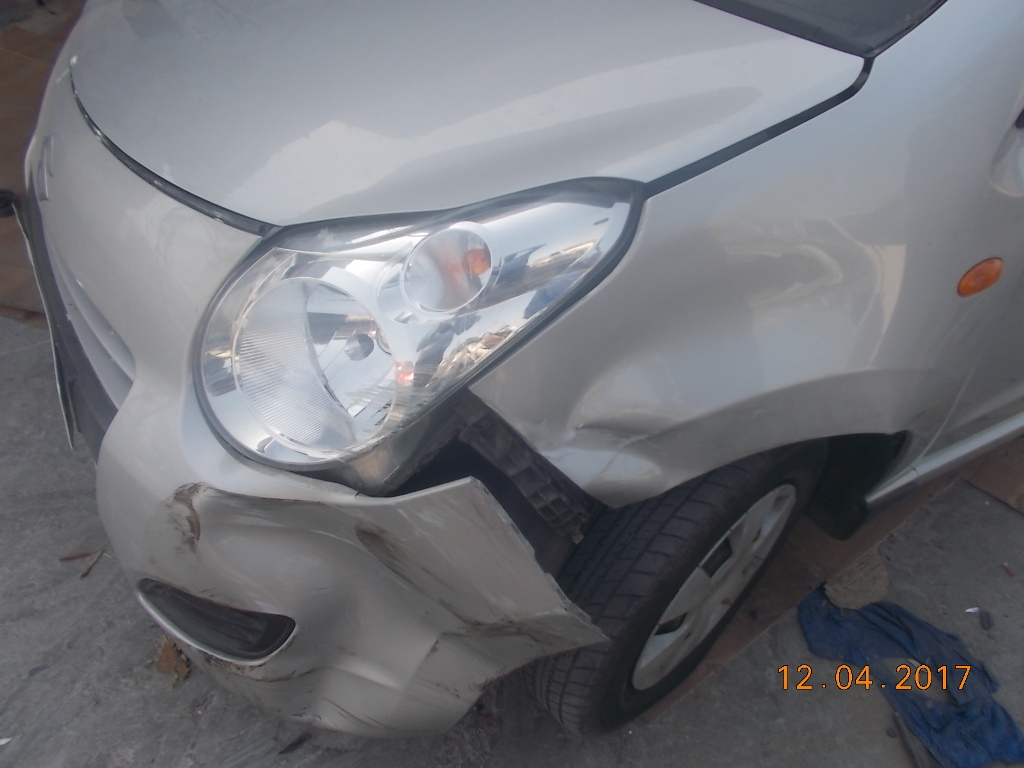Dent: (298, 510, 437, 714), (569, 355, 665, 438)
Dislocation: (569, 468, 618, 625), (446, 383, 508, 505), (515, 421, 559, 569)
Scratch_or_spot: (156, 478, 210, 551)
